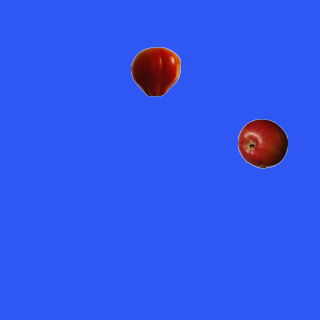Apple Braeburn: (237, 118, 287, 168)
Tomato 1: (130, 46, 180, 96)
